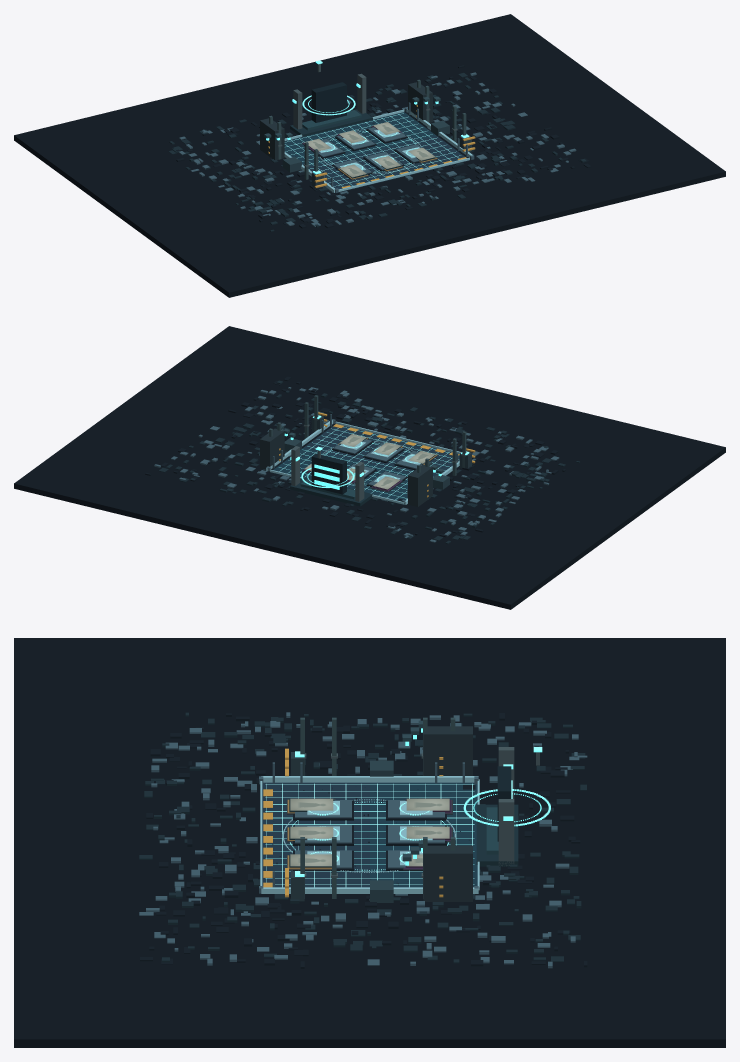
File: nexus.glb
3 views of the same model, one above another, from view 1: azimuth 30°, elevation 25°; view 2: azimuth 150°, elevation 25°; view 3: azimuth 270°, elevation 25° (orthographic). The views are drawn at different scales.
Visible parts, largest first — view 1: Bedrock, Outer_Rubble, Enemy_Floor, Friendly_Floor, Six_Grounded_Foundations, Server_Racks, Tech_Grid, Reactor_Core, Arena_Curb, Conduit_Pipes, Reactor_Dais, Reactor_Pylons (+1 smaller); view 2: Bedrock, Outer_Rubble, Friendly_Floor, Server_Racks, Enemy_Floor, Six_Grounded_Foundations, Tech_Grid, Reactor_Core, Arena_Curb, Conduit_Pipes, Reactor_Dais, Reactor_Pylons; view 3: Bedrock, Outer_Rubble, Friendly_Floor, Enemy_Floor, Server_Racks, Six_Grounded_Foundations, Arena_Curb, Tech_Grid, Reactor_Dais, Conduit_Pipes, Reactor_Pylons, Tech_Consoles (+2 smaller).
Part boxes in pixels (box(x1,y1,x2,y2)): Bedrock: box(14, 14, 725, 297); Outer_Rubble: box(168, 65, 591, 231); Enemy_Floor: box(284, 112, 436, 166); Friendly_Floor: box(308, 136, 468, 192); Six_Grounded_Foundations: box(304, 127, 422, 179); Server_Racks: box(260, 82, 432, 159); Tech_Grid: box(285, 113, 460, 186); Reactor_Core: box(311, 82, 346, 122); Arena_Curb: box(284, 109, 472, 192); Conduit_Pipes: box(269, 79, 466, 179); Reactor_Dais: box(290, 109, 372, 136); Reactor_Pylons: box(293, 73, 366, 129); Bedrock: box(14, 326, 725, 609); Outer_Rubble: box(145, 376, 579, 544); Friendly_Floor: box(303, 425, 459, 477); Server_Racks: box(260, 428, 432, 506); Enemy_Floor: box(271, 448, 409, 504); Six_Grounded_Foundations: box(332, 439, 435, 491); Tech_Grid: box(279, 427, 458, 499); Reactor_Core: box(311, 453, 346, 494); Arena_Curb: box(266, 420, 461, 504); Conduit_Pipes: box(269, 395, 466, 475); Reactor_Dais: box(290, 477, 372, 506); Reactor_Pylons: box(291, 446, 364, 501); Bedrock: box(14, 638, 725, 1047); Outer_Rubble: box(139, 712, 587, 968); Friendly_Floor: box(262, 782, 369, 887); Enemy_Floor: box(370, 782, 477, 887); Server_Racks: box(423, 726, 472, 901); Six_Grounded_Foundations: box(293, 800, 446, 870); Arena_Curb: box(260, 776, 479, 893); Tech_Grid: box(265, 783, 474, 887); Reactor_Dais: box(476, 804, 518, 866); Conduit_Pipes: box(300, 717, 455, 898); Reactor_Pylons: box(498, 747, 514, 866); Tech_Consoles: box(370, 760, 393, 902).
Bounding box in the file's own units: 48 × 5.5 × 36.
48 materials, 1 textured.
